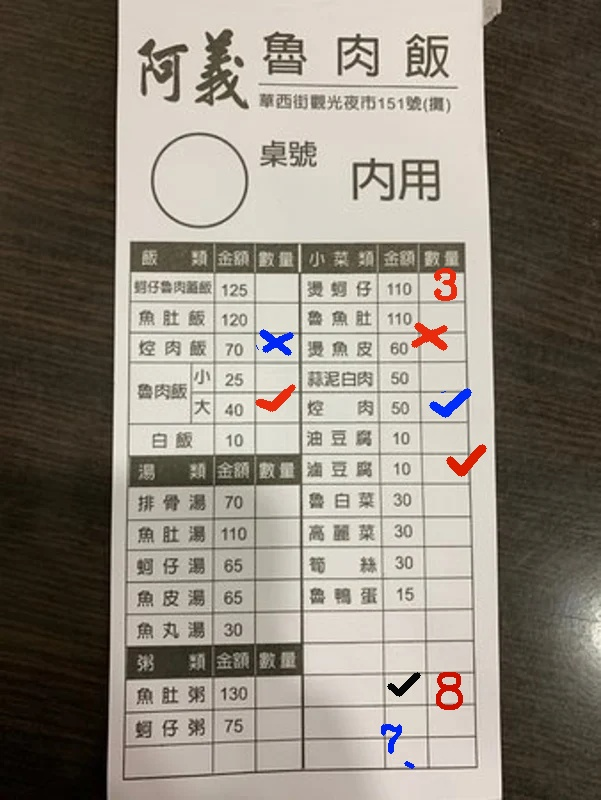marked_number_3: (419, 274, 462, 302)
marked_number_7: (384, 735, 427, 763)
marked_number_8: (429, 673, 472, 701)
marked_tick: (424, 455, 467, 483), (421, 391, 464, 419), (256, 393, 299, 421), (382, 674, 425, 702)
marked_x: (256, 332, 299, 360), (421, 330, 464, 358)
